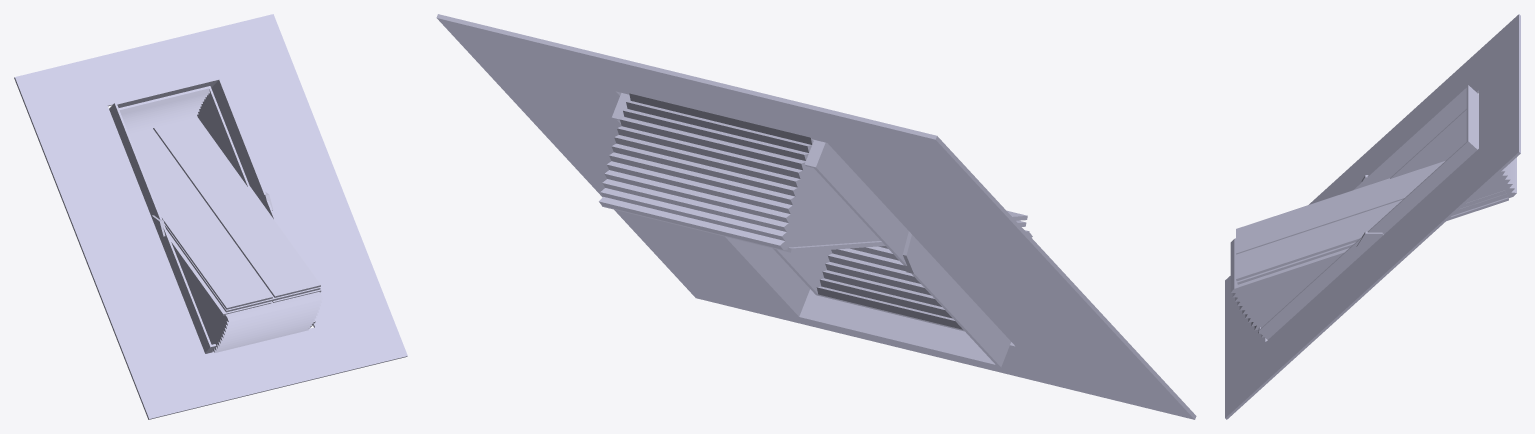
The model's file is RotateDock_020deg.glb.
3 renders of one model, left to right at view 1: azimuth 30°, elevation 25°; view 2: azimuth 150°, elevation 25°; view 3: azimuth 270°, elevation 25°, orthographic. The views are drawn at different scales.
Visible parts, largest first — view 1: copy_Body021, copy_LinkGroup004, copy_Body023, copy_Body, copy_Body022, copy_LinkGroup003; view 2: copy_Body021, copy_Body022, copy_Body, copy_Body023, copy_LinkGroup003, copy_Body002; view 3: copy_Body021, copy_LinkGroup004, copy_Body, copy_Body023, copy_Body022, copy_LinkGroup003, copy_Body001.
Part boxes in pixels (x1,y1,x2,y2): copy_Body021: (14, 14, 407, 419); copy_LinkGroup004: (129, 117, 320, 312); copy_Body023: (173, 247, 322, 352); copy_Body: (109, 77, 316, 353); copy_Body022: (119, 86, 249, 187); copy_LinkGroup003: (166, 230, 321, 315); copy_Body021: (436, 14, 1196, 419); copy_Body022: (599, 93, 880, 249); copy_Body: (612, 93, 1010, 367); copy_Body023: (773, 232, 1032, 331); copy_LinkGroup003: (602, 206, 1029, 252); copy_Body002: (902, 231, 930, 273); copy_Body021: (1225, 14, 1520, 419); copy_LinkGroup004: (1236, 161, 1507, 284); copy_Body: (1258, 85, 1478, 339); copy_Body023: (1230, 238, 1340, 337); copy_Body022: (1390, 109, 1516, 215); copy_LinkGroup003: (1238, 197, 1508, 289); copy_Body001: (1356, 231, 1383, 254).
Bounding box in the file's own units: 1.68 × 1.52 × 1.52.
